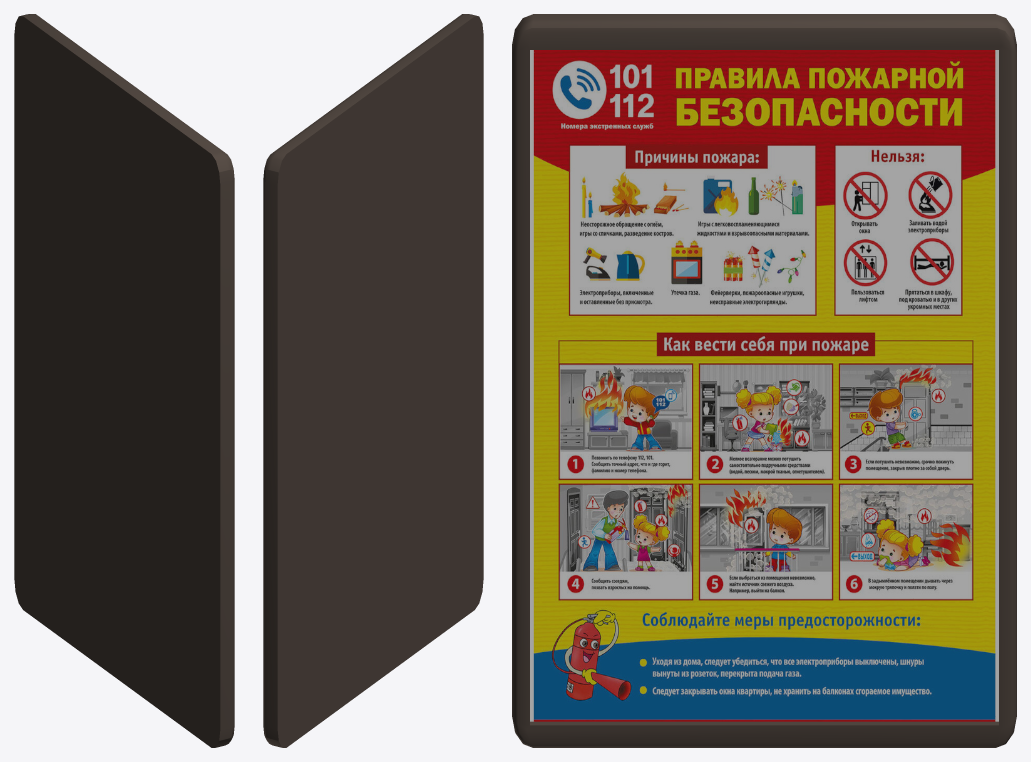
Rendered from poster1.fbx.
3 views of the same model, side by side, from view 1: azimuth 30°, elevation 25°; view 2: azimuth 150°, elevation 25°; view 3: azimuth 270°, elevation 25° (orthographic). The views are drawn at different scales.
Visible parts, largest first — view 1: Cube; view 2: Cube; view 3: Cube.
Boxes of the visible parts, box(x1,y1,x2,y2) form: Cube: box(14, 14, 234, 747); Cube: box(263, 14, 483, 747); Cube: box(512, 14, 1016, 747).
Size of the model in its own units: 24.51 by 842 by 529.
